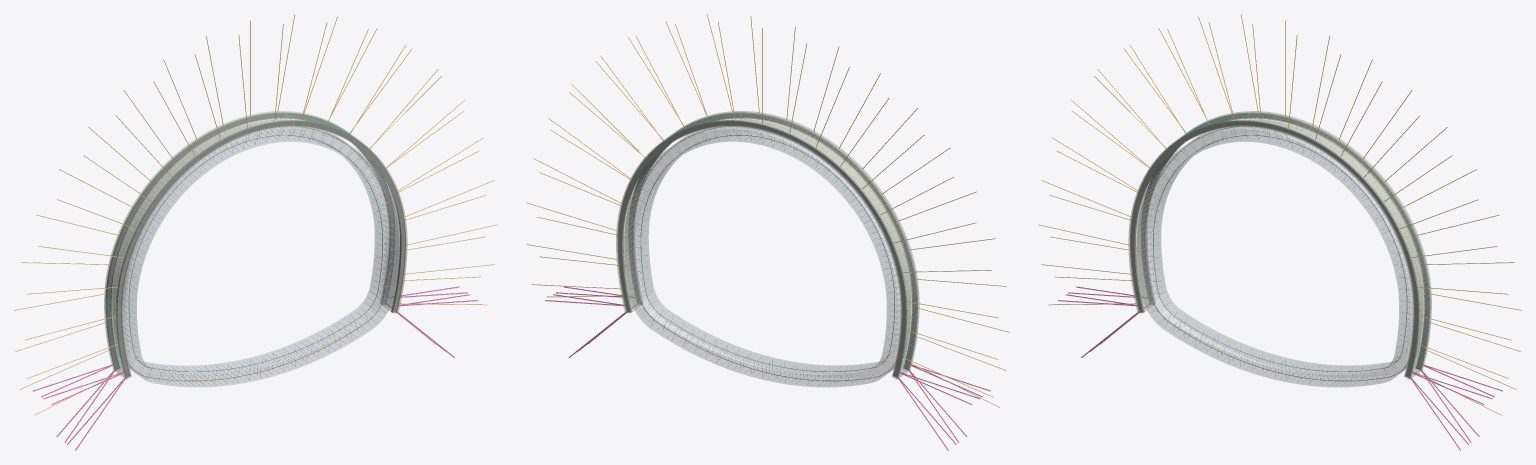
The model's file is ZZ-Va_support_1m_current.glb.
The picture shows the model from 3 angles, left to right: view 1: azimuth 30°, elevation 25°; view 2: azimuth 150°, elevation 25°; view 3: azimuth 330°, elevation 25°; orthographic projection.
Parts seen in each view (by area): view 1: secondaryLining, primarySupportConcrete, steelArch_002, steelArch_001, N3, N4, N2, N1; view 2: secondaryLining, primarySupportConcrete, steelArch_001, steelArch_002, N3, N4, N2, N1; view 3: secondaryLining, primarySupportConcrete, steelArch_002, steelArch_001, N3, N4, N2, N1.
Part boxes in pixels (<box>): secondaryLining: <box>113,120,399,387</box>; primarySupportConcrete: <box>104,111,407,379</box>; steelArch_002: <box>116,120,405,378</box>; steelArch_001: <box>105,112,394,370</box>; N3: <box>123,127,397,385</box>; N4: <box>123,127,396,384</box>; N2: <box>128,135,382,371</box>; N1: <box>127,126,391,381</box>; secondaryLining: <box>624,120,910,387</box>; primarySupportConcrete: <box>616,111,919,379</box>; steelArch_001: <box>617,120,907,378</box>; steelArch_002: <box>628,112,917,370</box>; N3: <box>626,127,900,385</box>; N4: <box>626,127,907,384</box>; N2: <box>640,135,894,371</box>; N1: <box>632,126,895,381</box>; secondaryLining: <box>1136,120,1422,387</box>; primarySupportConcrete: <box>1128,111,1431,379</box>; steelArch_002: <box>1130,120,1419,378</box>; steelArch_001: <box>1141,112,1430,370</box>; N3: <box>1138,127,1412,385</box>; N4: <box>1139,127,1412,384</box>; N2: <box>1153,135,1407,371</box>; N1: <box>1144,126,1408,381</box>.
Size of the model in its own units: 20.71 by 15.64 by 1.45.
